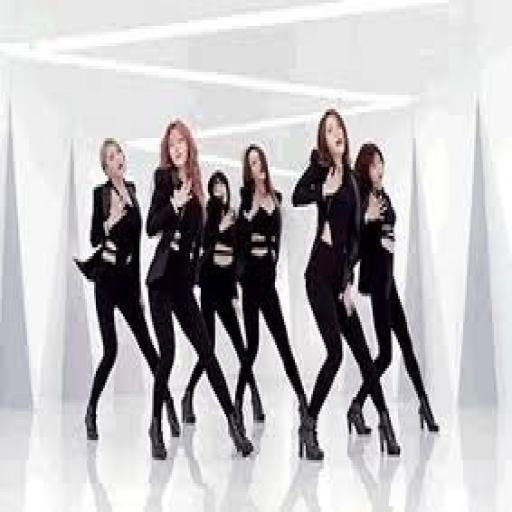dancing: (290, 106, 404, 466), (143, 115, 257, 463), (70, 135, 181, 449)
